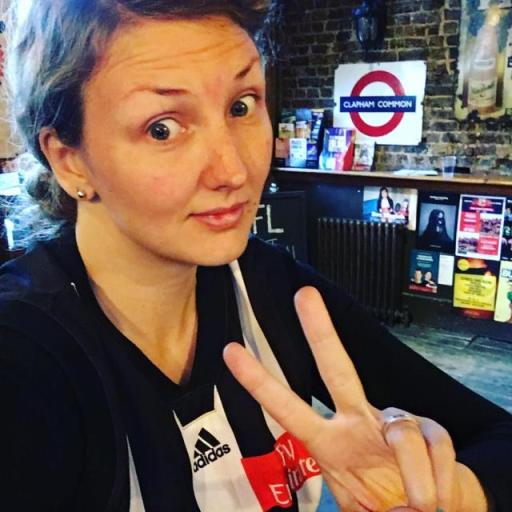Adidas: (188, 425, 233, 474)
